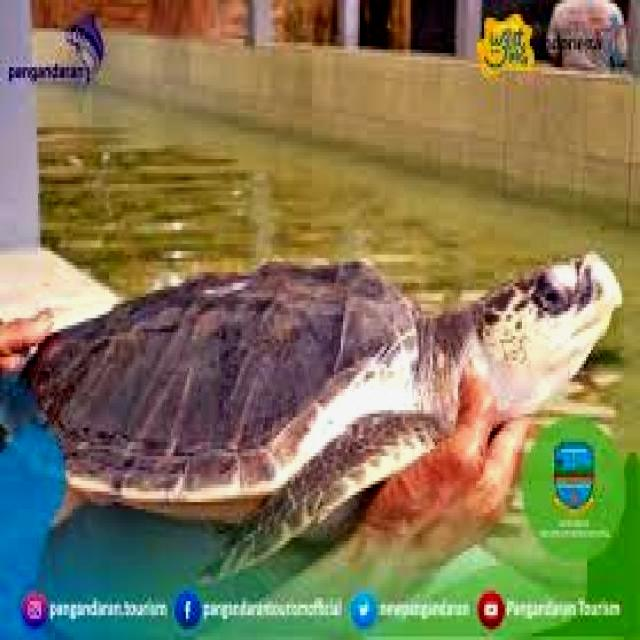Sea turtle: (14, 193, 618, 536)
